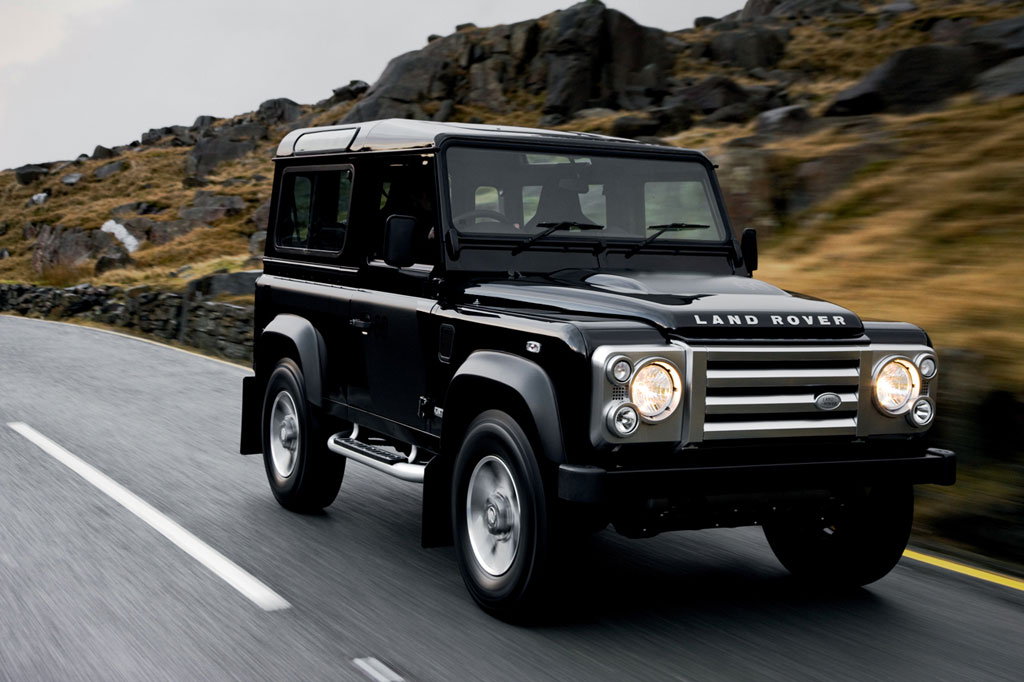pickup: (255, 119, 960, 625)
